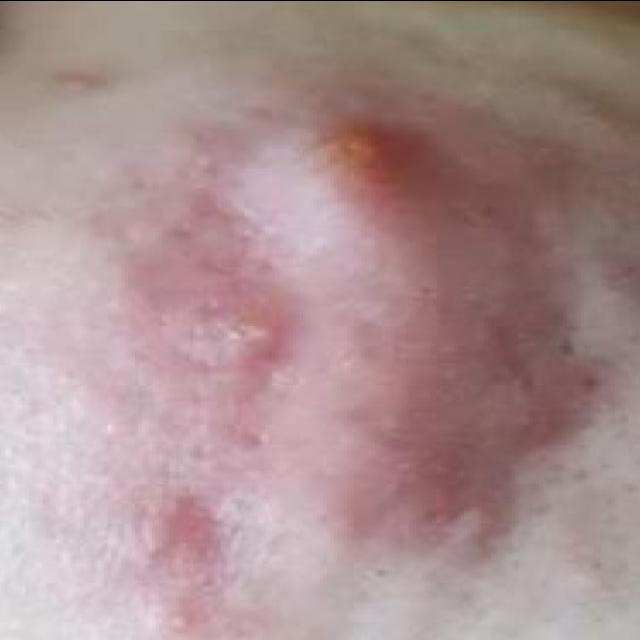nodule: (166, 48, 611, 611)
